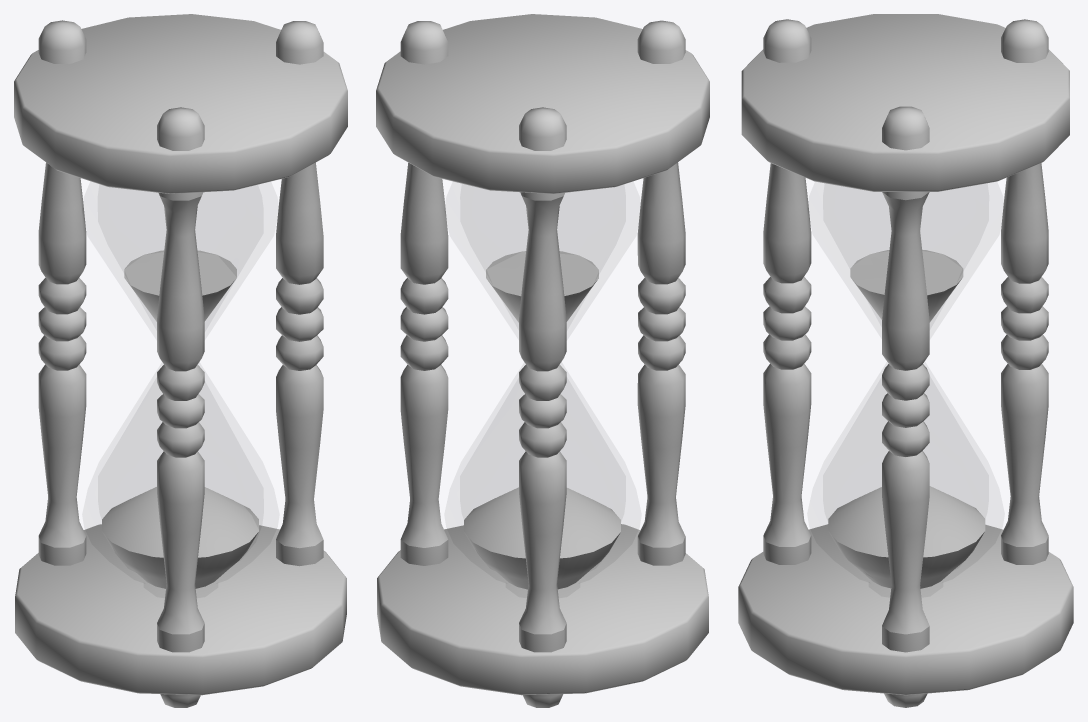
3 views of the same model, side by side, from view 1: azimuth 30°, elevation 25°; view 2: azimuth 150°, elevation 25°; view 3: azimuth 270°, elevation 25° (orthographic).
Parts seen in each view (by area): view 1: SandTimer_LP; view 2: SandTimer_LP; view 3: SandTimer_LP.
Part boxes in pixels (x1,y1,x2,y2): SandTimer_LP: [14, 14, 347, 707]; SandTimer_LP: [376, 14, 709, 707]; SandTimer_LP: [738, 14, 1073, 707].
Size of the model in its own units: 12.51 by 24.46 by 12.51.
